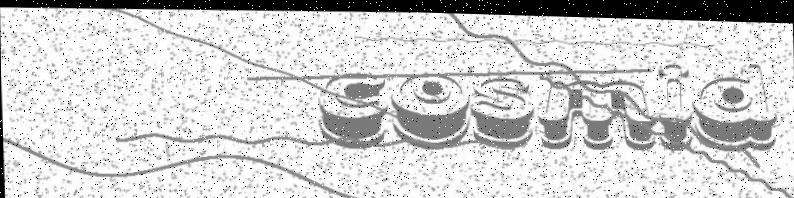c: (316, 70, 389, 147)
d: (689, 57, 778, 148)
i: (655, 57, 694, 148)
m: (535, 74, 654, 149)
o: (388, 69, 471, 148)
s: (468, 72, 535, 146)
